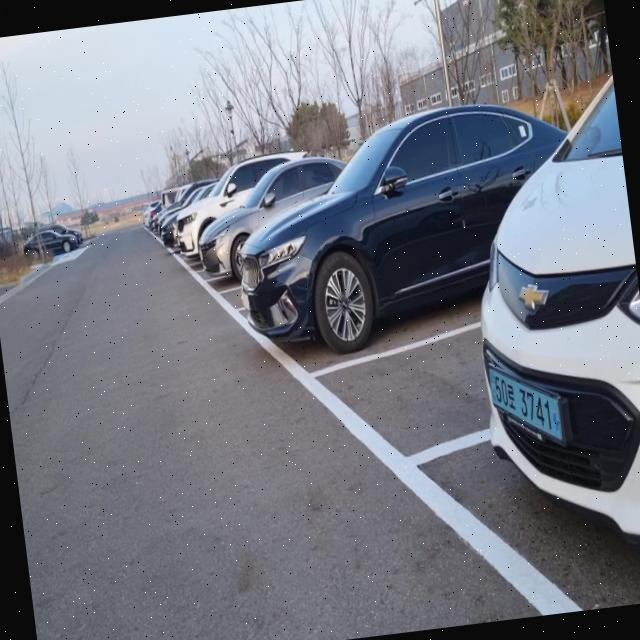Car: (229, 167, 436, 375), (194, 213, 246, 298), (174, 206, 204, 264)
Vacant: (286, 268, 498, 488)
